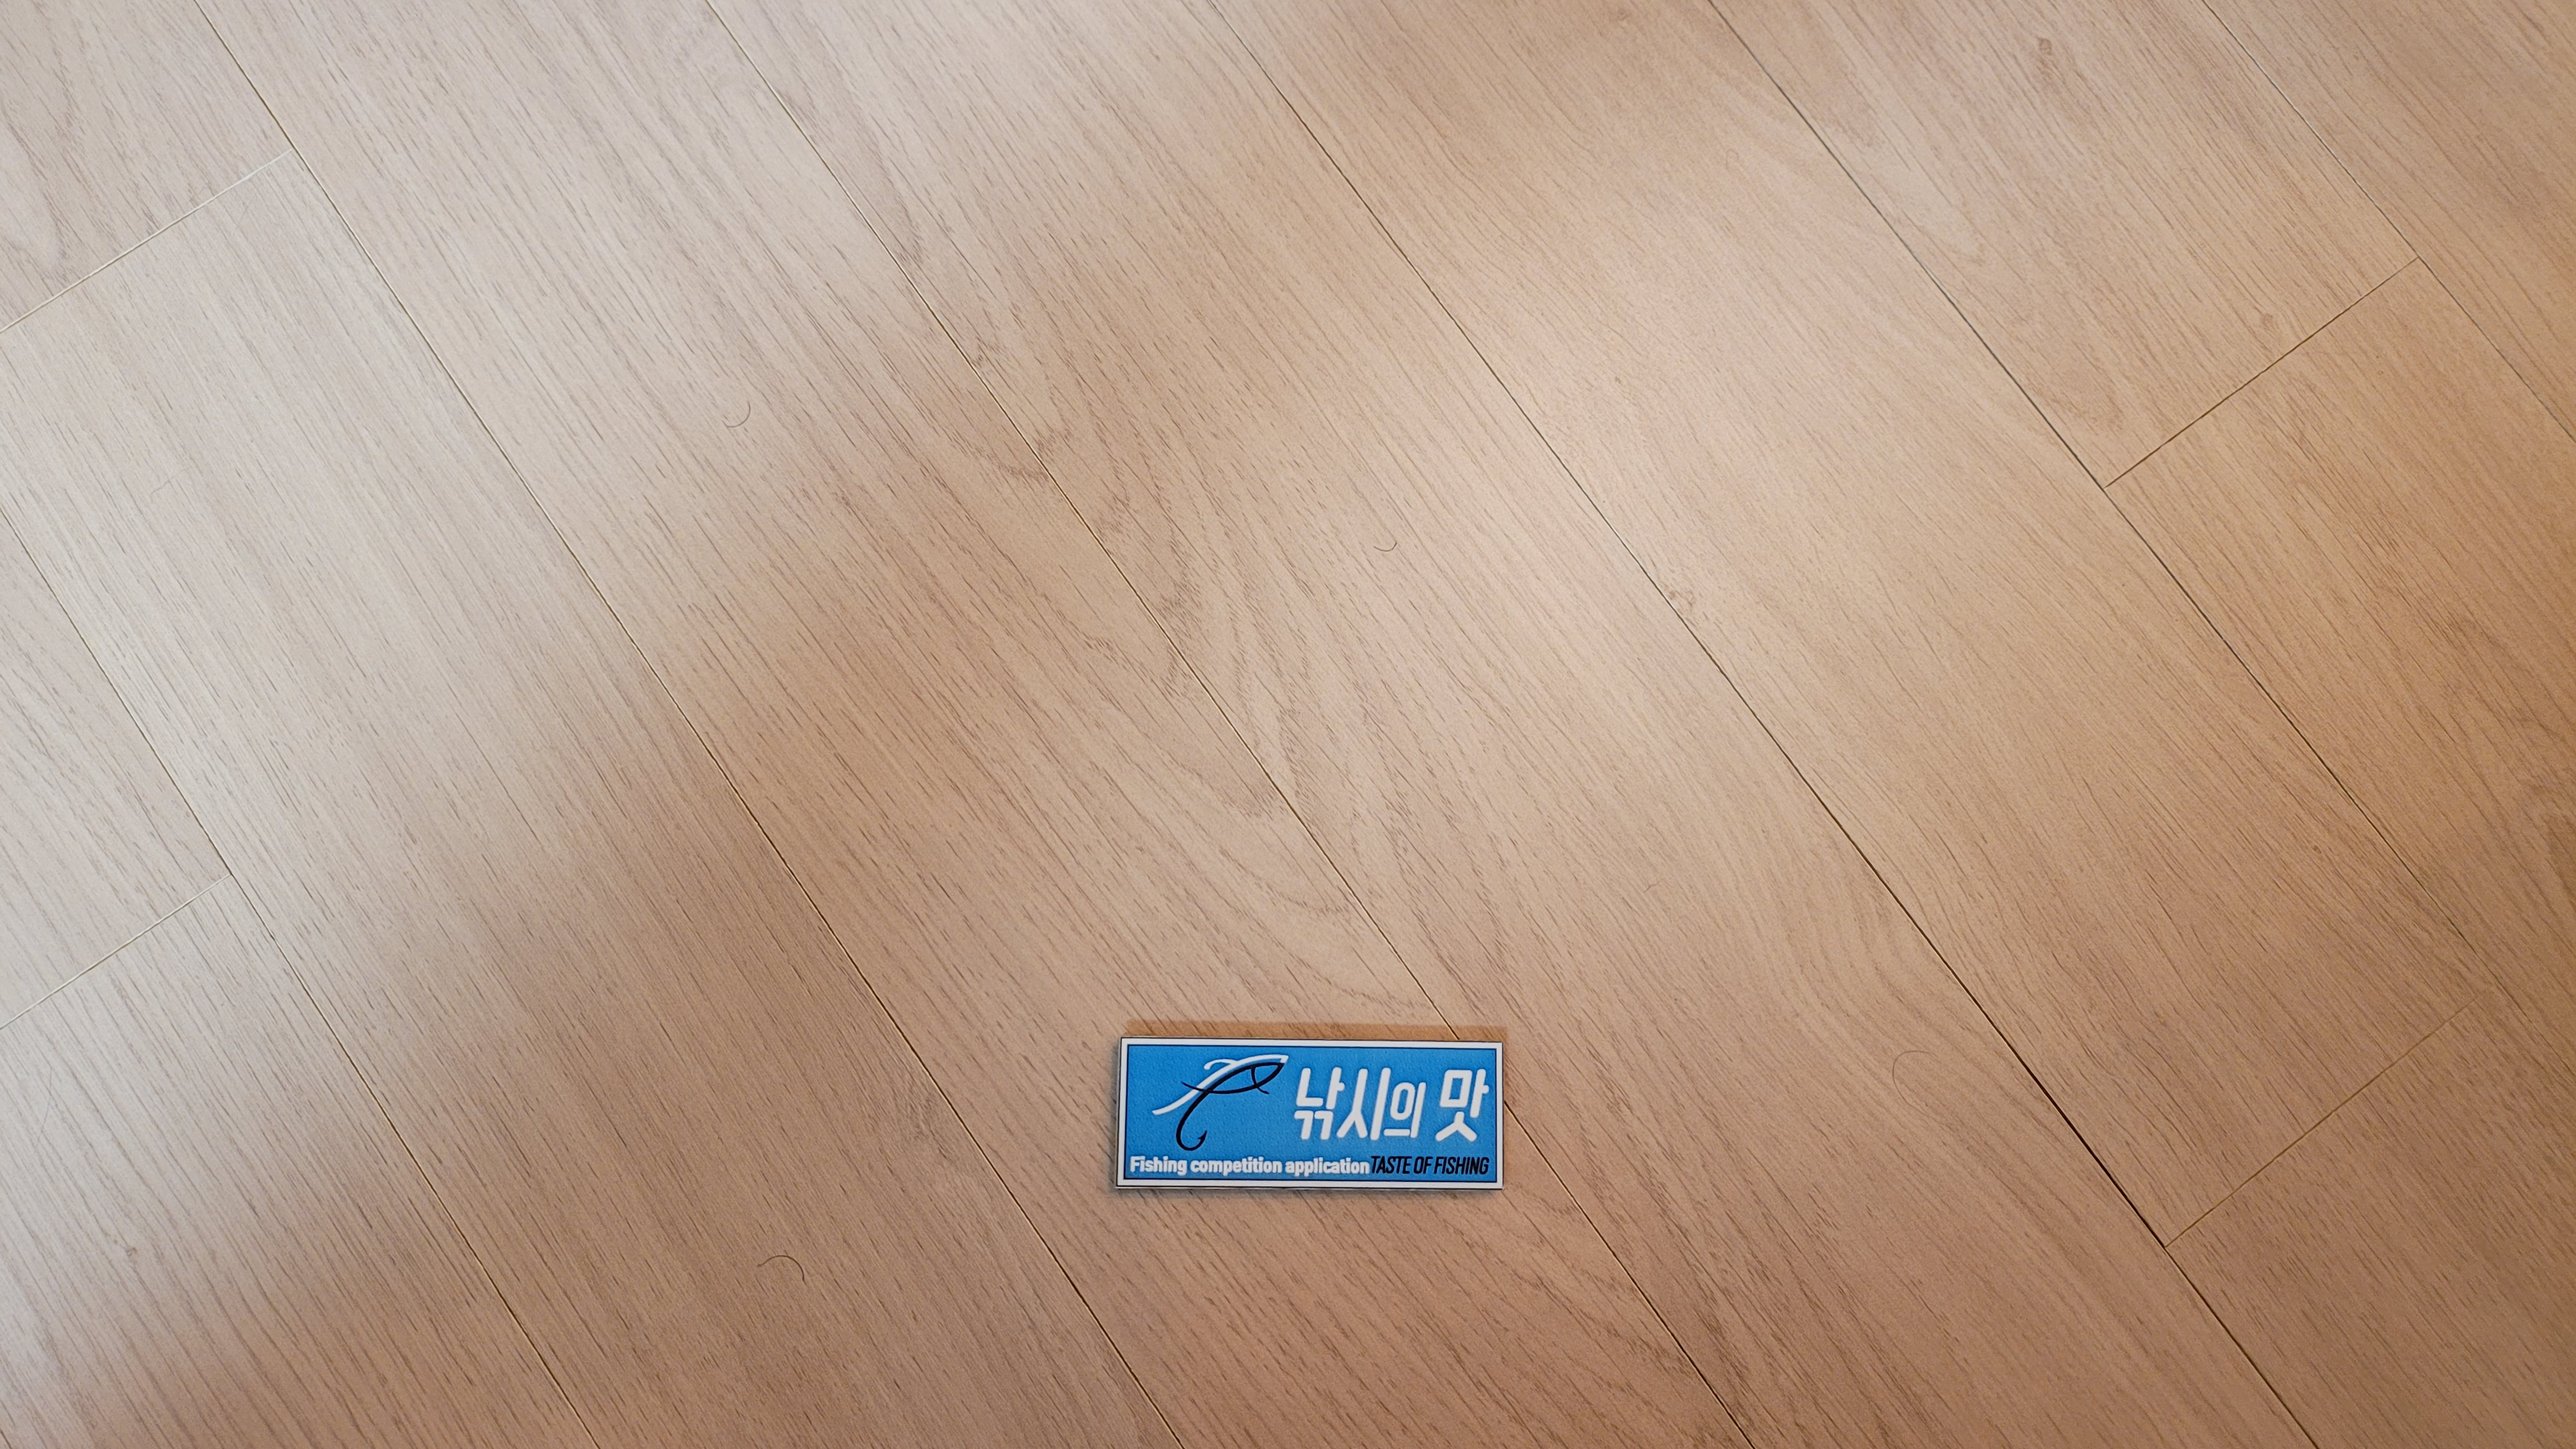tag: (1115, 1033, 1509, 1198)
